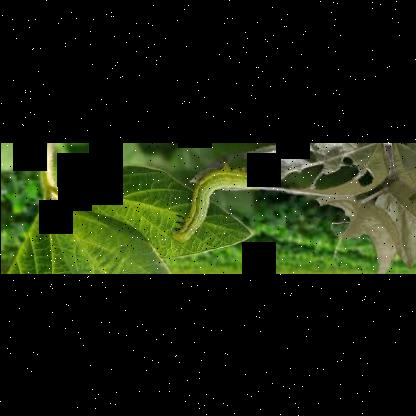agujero: (310, 160, 366, 196), (318, 198, 350, 250), (337, 237, 381, 271), (296, 150, 326, 162), (356, 168, 374, 187), (340, 154, 356, 168), (402, 193, 414, 203)
oruga: (160, 158, 271, 246)
